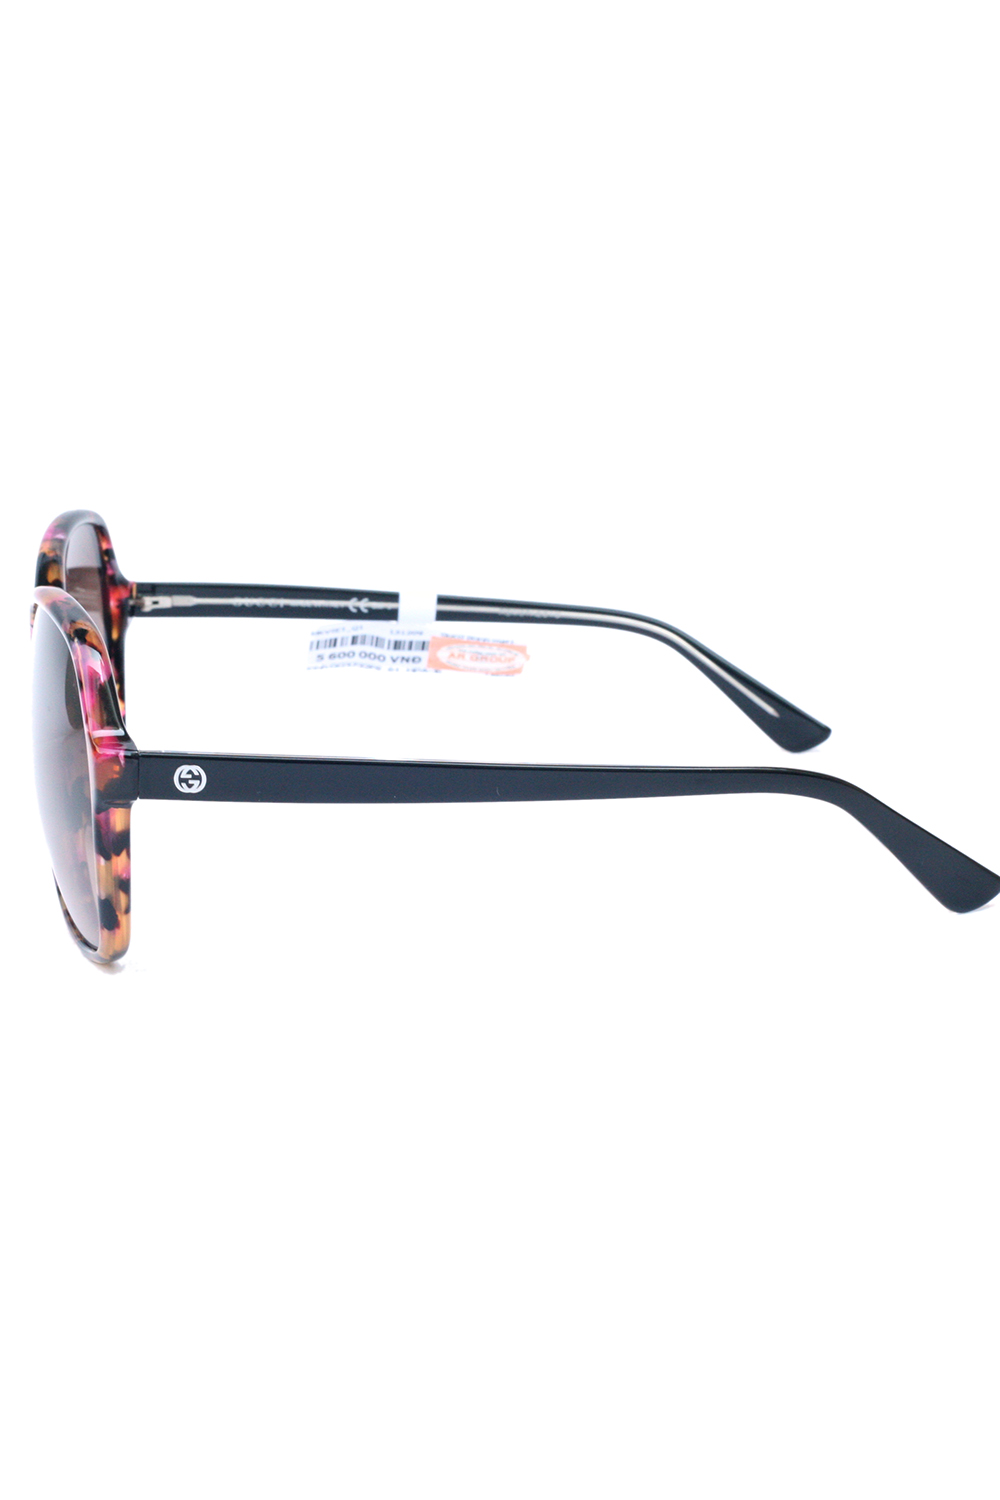Gucci: (169, 754, 213, 801)
